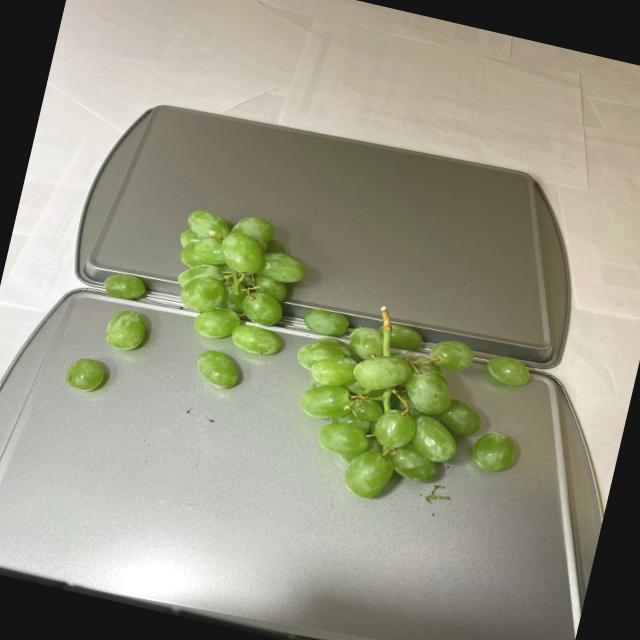grapes: (56, 185, 560, 538)
